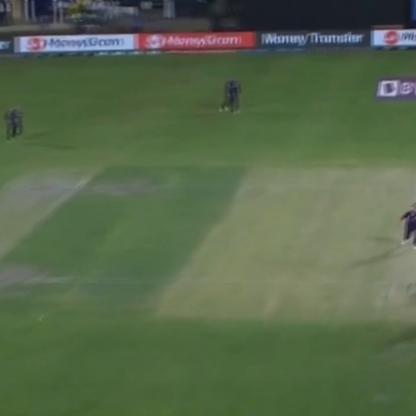ball: (33, 313, 46, 323)
